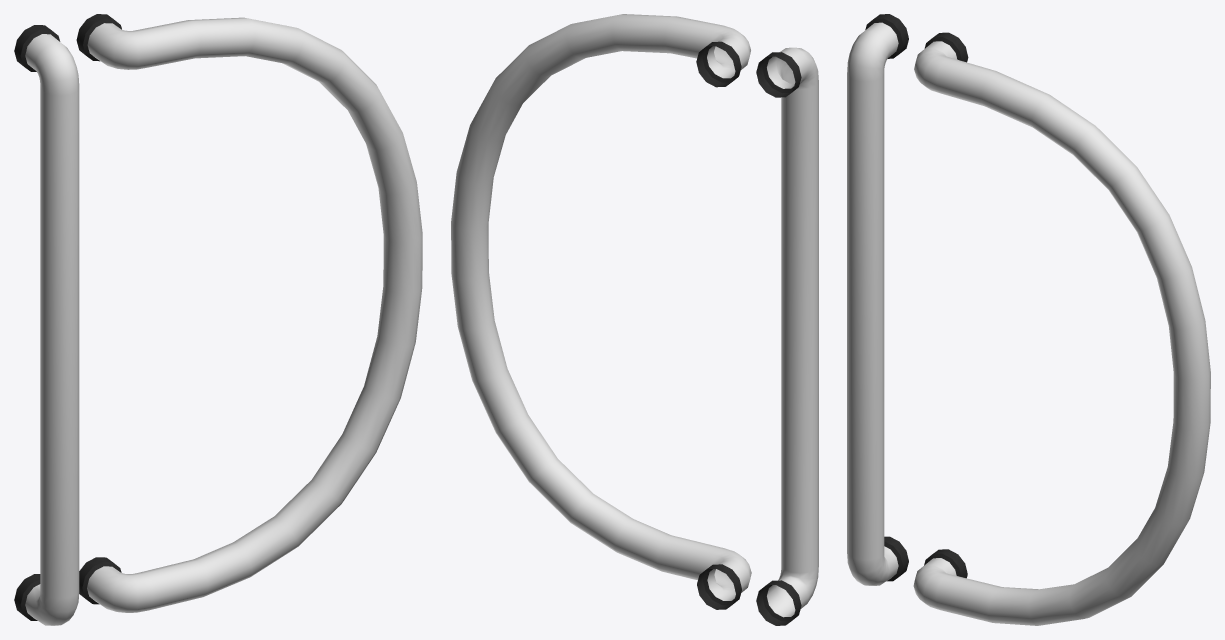
File: LettersNeon01_D.FBX
The picture shows the model from 3 angles, left to right: view 1: azimuth 30°, elevation 25°; view 2: azimuth 150°, elevation 25°; view 3: azimuth 330°, elevation 25°; orthographic projection. The views are drawn at different scales.
Parts seen in each view (by area): view 1: LettersNeon01_D; view 2: LettersNeon01_D; view 3: LettersNeon01_D.
Part boxes in pixels (left/top/right/bottom): LettersNeon01_D: left=14, top=14, right=422, bottom=625; LettersNeon01_D: left=451, top=14, right=818, bottom=625; LettersNeon01_D: left=847, top=14, right=1210, bottom=625.
Size of what is drawn, in the model's own units: 0.3386 by 0.503 by 0.054.
